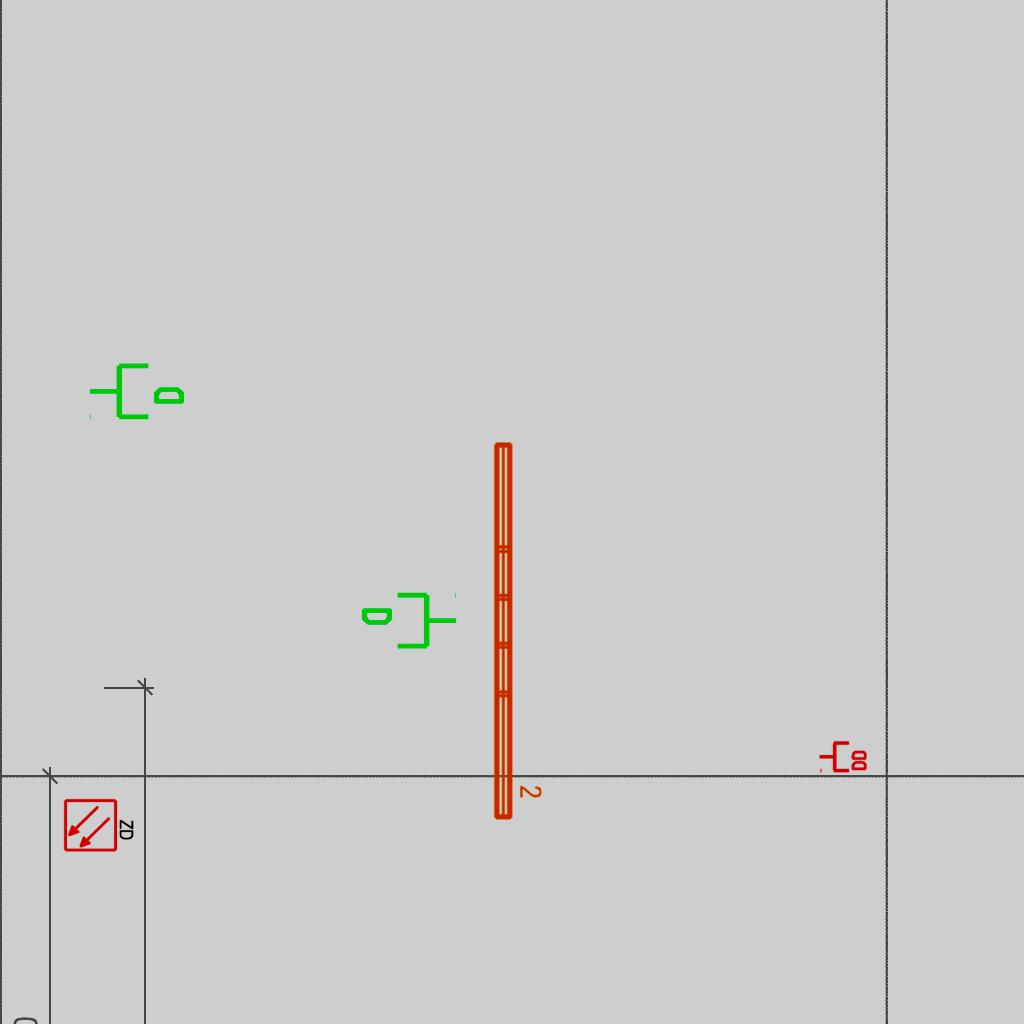Ambulanz_Pendelleuchte_LED: (488, 437, 544, 824)
Datenanschluss_einfach: (87, 355, 187, 424), (359, 588, 459, 657)
Datenanschluss_zweifach: (818, 739, 869, 773)
ZD_Melder_in_Zwischendecke_mit_Revisionsoeffnung_mind_40_x_40_cm: (63, 796, 137, 853)
